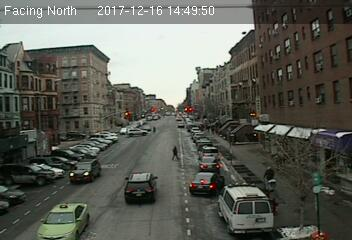car: (37, 201, 89, 240), (124, 172, 159, 203), (189, 170, 226, 196), (68, 158, 101, 184), (198, 154, 223, 172)
pedestrian: (265, 165, 274, 191), (171, 146, 180, 161)
police: (217, 182, 275, 234)
